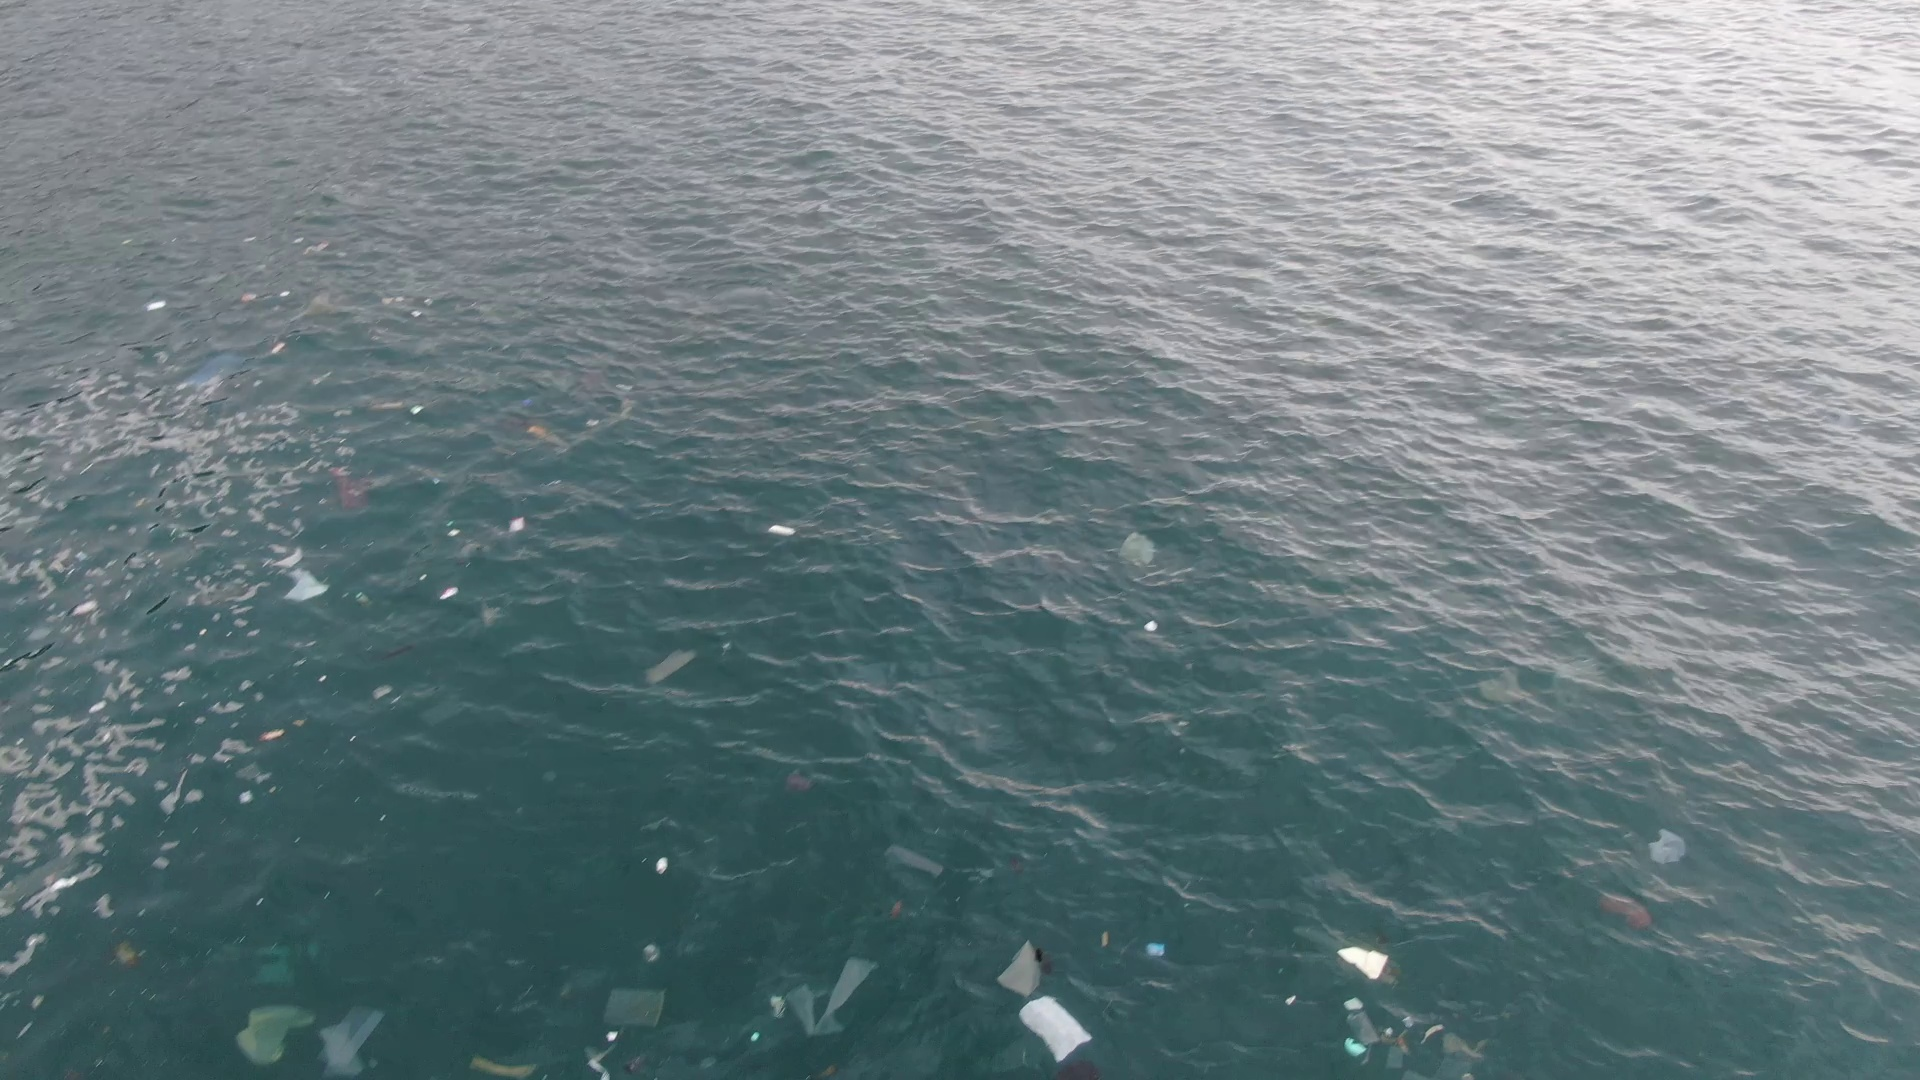garbage: (1004, 938, 1106, 1079), (1342, 1001, 1485, 1080), (785, 956, 877, 1043), (587, 981, 666, 1080), (510, 378, 625, 443), (1, 855, 111, 919), (241, 996, 311, 1067), (320, 1006, 386, 1077), (1596, 885, 1655, 940), (1335, 942, 1400, 988), (191, 353, 255, 394), (887, 843, 945, 881), (282, 564, 332, 604), (338, 467, 377, 517), (465, 1052, 539, 1079), (647, 649, 695, 684), (1648, 827, 1687, 870), (1116, 531, 1159, 568), (766, 524, 798, 541)
